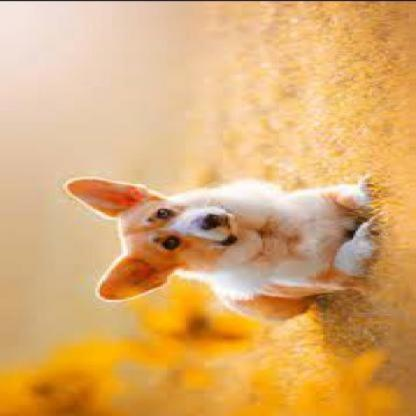dog: (59, 176, 385, 324)
